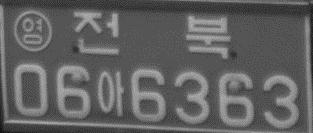0: (12, 63, 49, 119)
3: (172, 70, 211, 125), (262, 74, 299, 128)
6: (130, 67, 167, 124), (217, 71, 254, 128), (56, 64, 91, 120)
아: (96, 70, 125, 118)
영: (12, 9, 53, 54)
전북_D: (72, 9, 230, 60)
